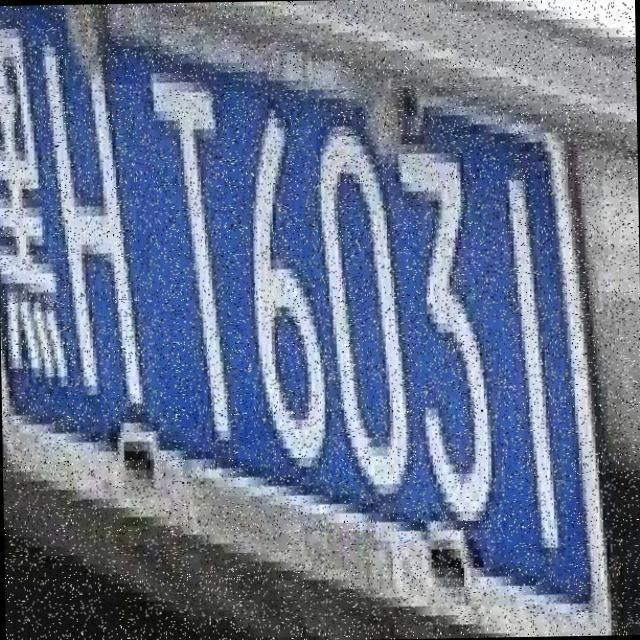License Plate: (1, 0, 624, 640)
